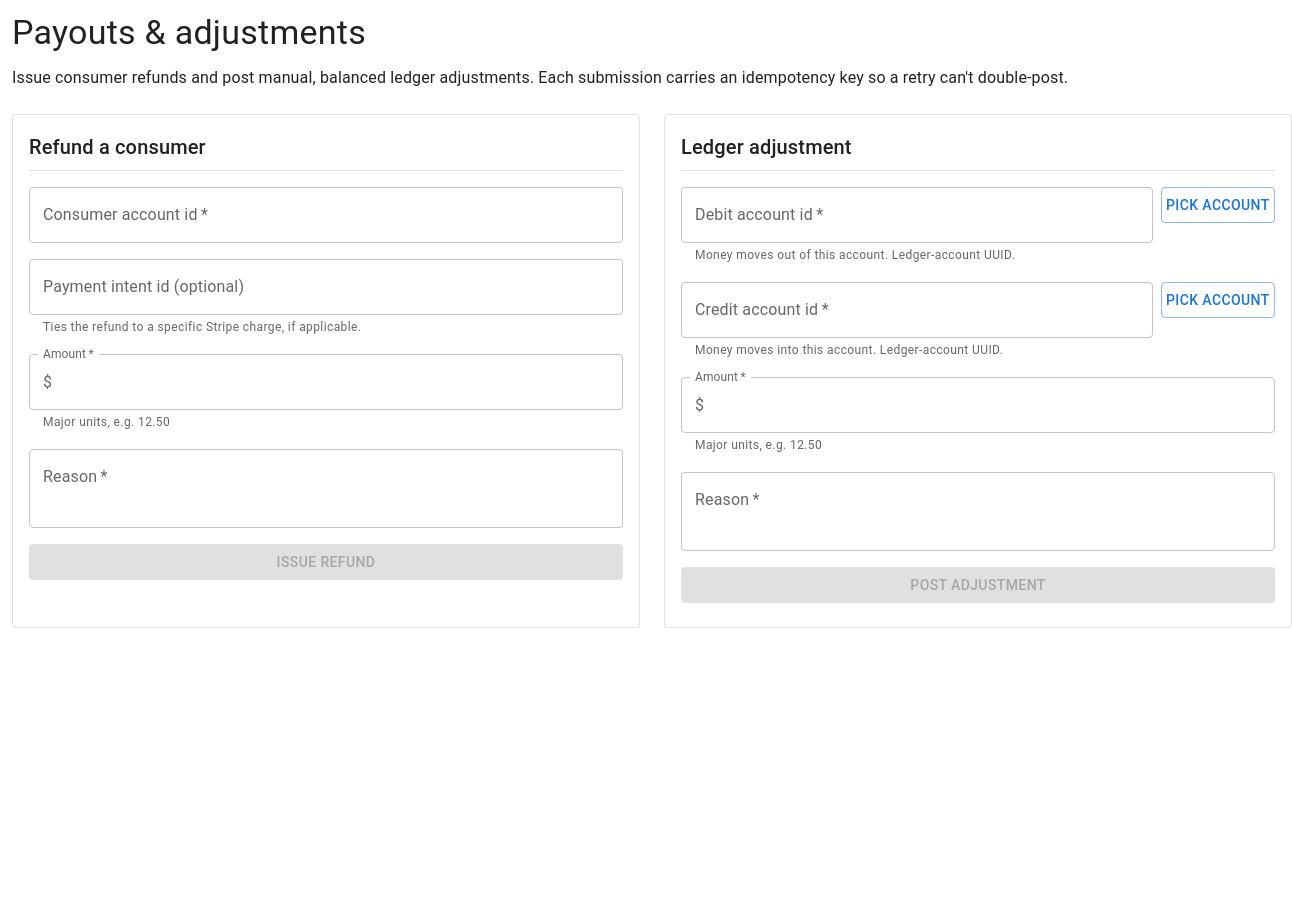
Test case: PayoutsPanel › formats the refund note in the currency the server returned (currency-aware)
The width and height of the screenshot is (1292, 912).
In the field named "Refund consumer id": (326, 215) 29,187 -> 623,243, type "u-1"
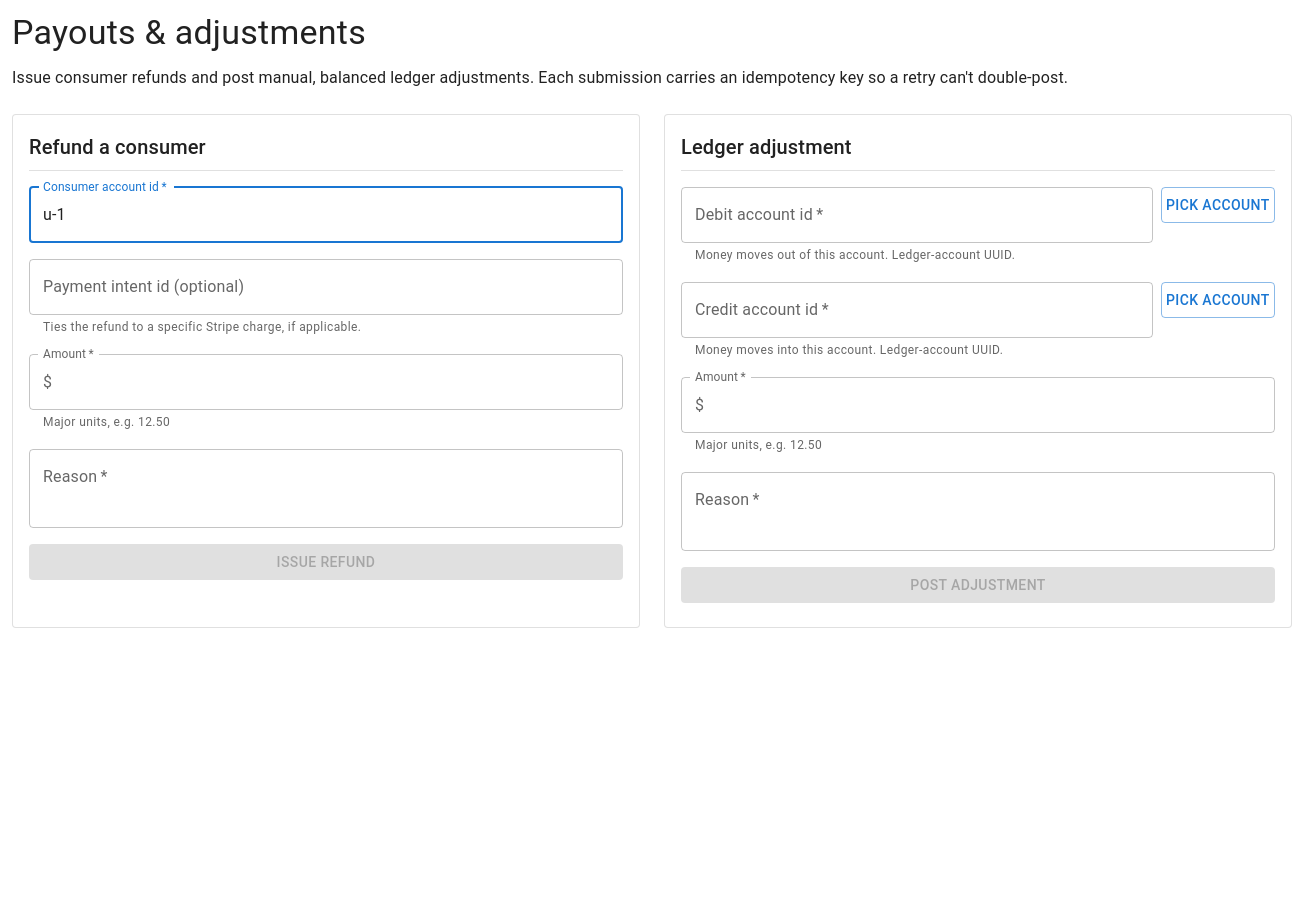
In the field named "Refund amount": (342, 382) 60,354 -> 623,410, type "5"
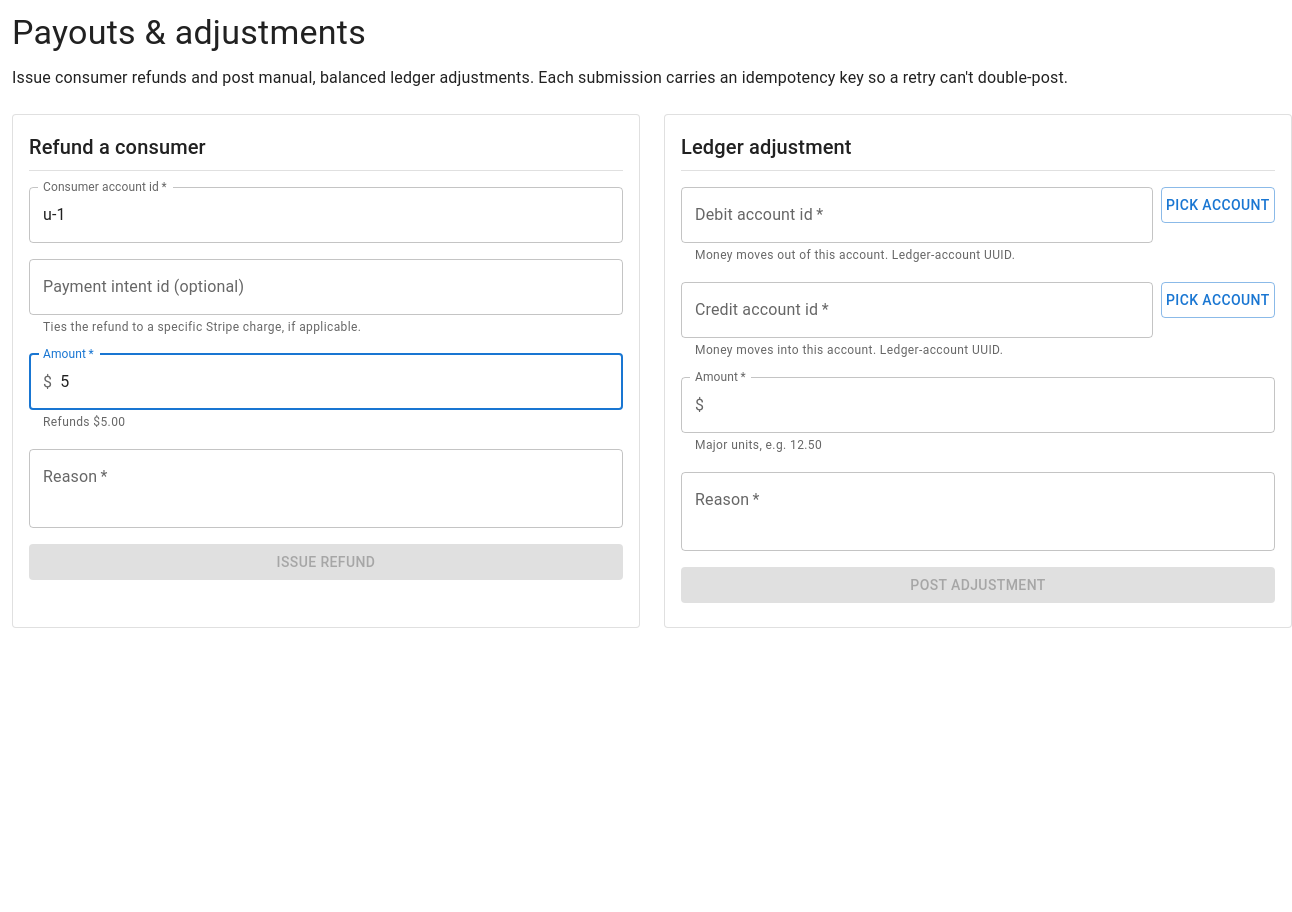
In the text box named "Refund reason": (326, 488) 43,465 -> 609,511, type "goodwill"
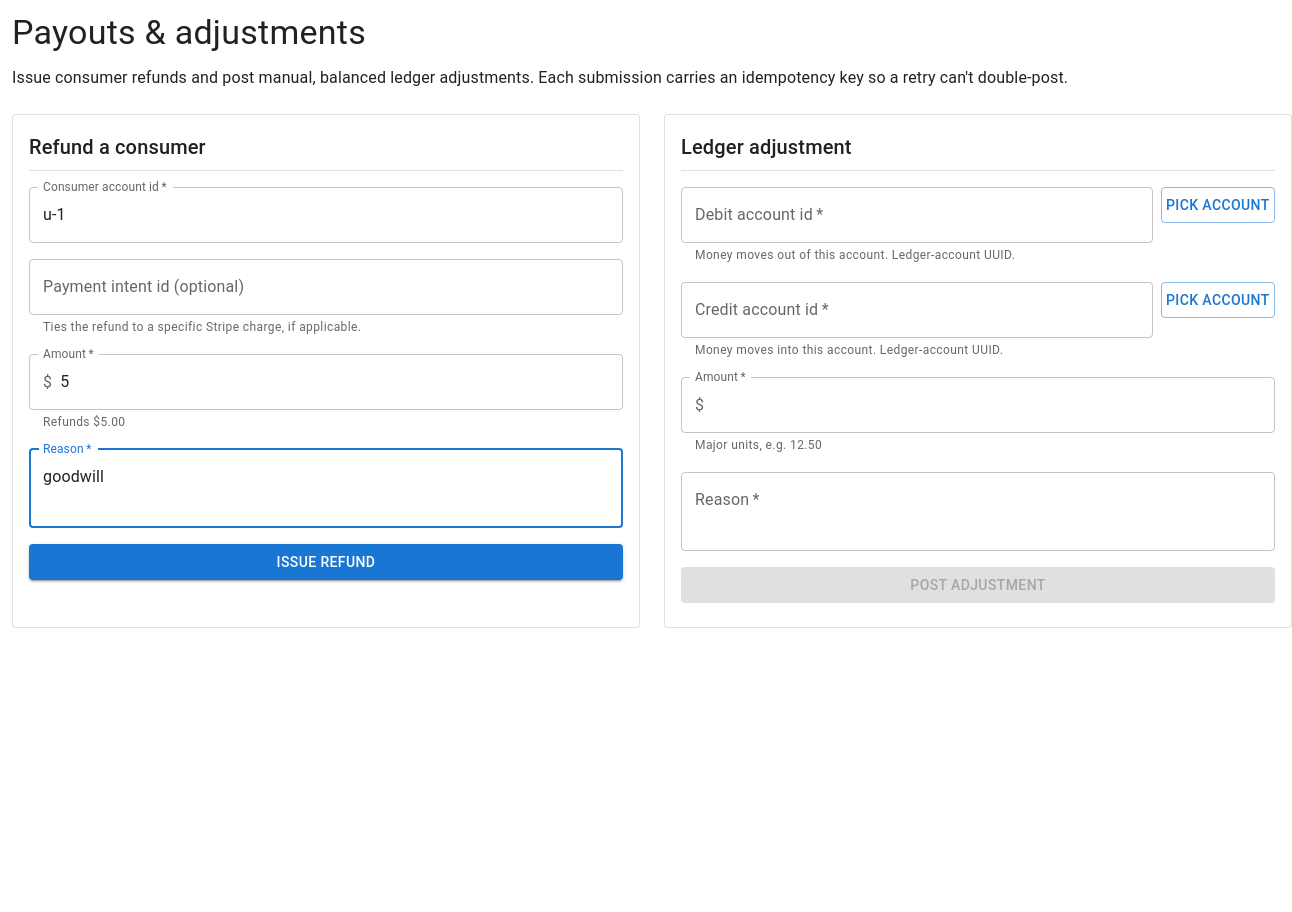
Click the button "Issue refund": (326, 562) 29,544 -> 623,580
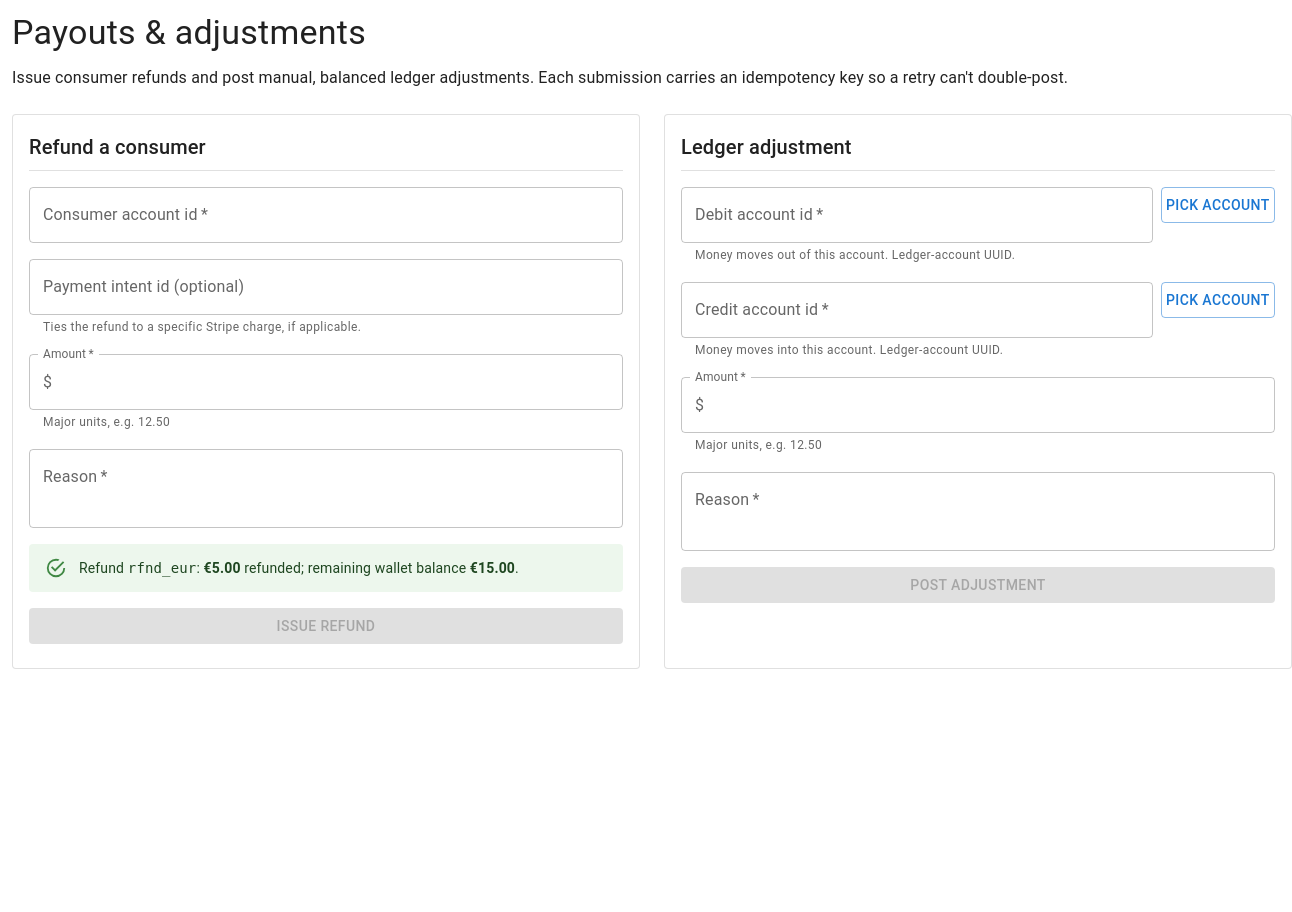
Expected: the text "Refund rfnd_eur: €5.00 refunded; remaining wallet balance €15.00." is shown, 29,544 -> 623,592
Expected: the text "€5.00" is shown, 204,560 -> 241,576
Expected: the text "€15.00" is shown, 470,560 -> 515,576
